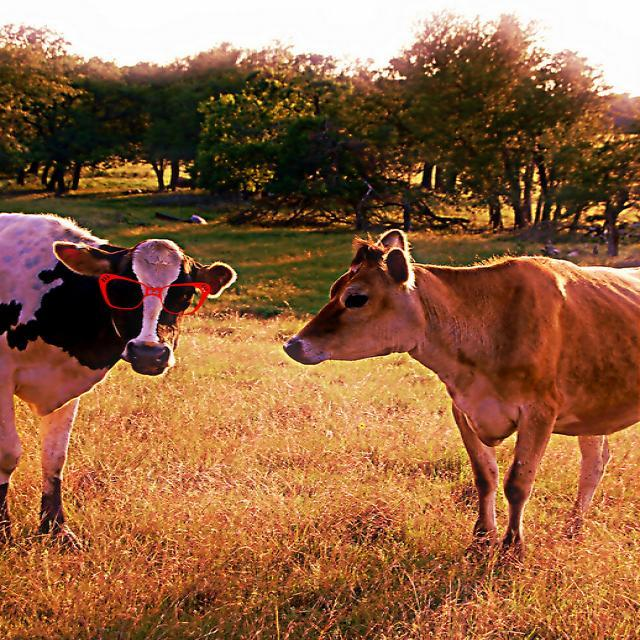cow: (282, 231, 639, 557), (0, 211, 237, 547)
